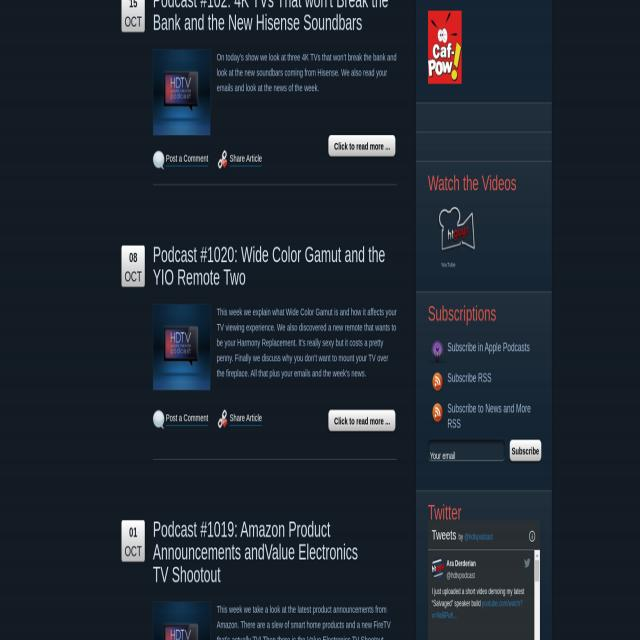button: (153, 49, 211, 136), (153, 304, 211, 391), (152, 602, 211, 640), (436, 206, 476, 252), (328, 134, 397, 160), (328, 409, 397, 434), (509, 439, 542, 464), (432, 558, 444, 579), (523, 554, 531, 570), (528, 530, 536, 543), (535, 560, 539, 582), (534, 550, 540, 560)
field: (428, 11, 462, 84), (428, 439, 504, 462)
